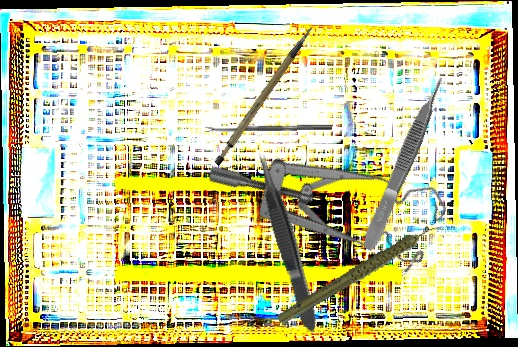Handpiece: (265, 222, 458, 327)
Scalpel Handle: (197, 25, 334, 169)
Speculum: (203, 73, 462, 314)
Surgical Spoon: (204, 123, 333, 133)
Tissue Forceps: (357, 74, 452, 253), (251, 149, 322, 336)
